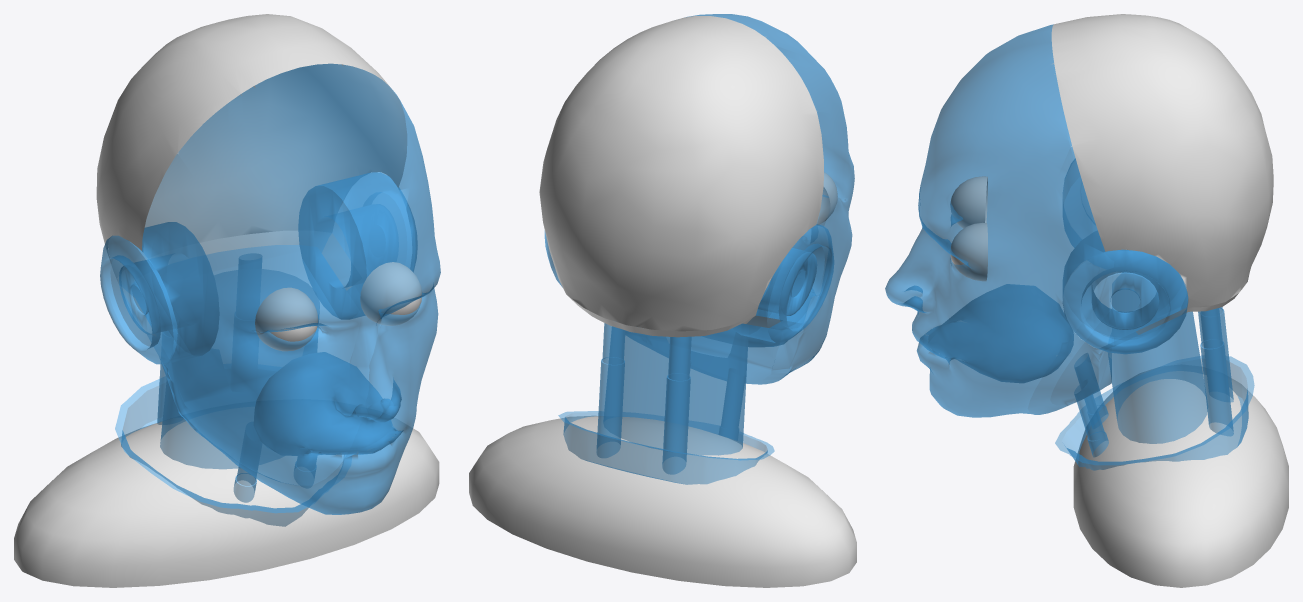
3 renders of one model, left to right at view 1: azimuth 30°, elevation 25°; view 2: azimuth 150°, elevation 25°; view 3: azimuth 270°, elevation 25°, orthographic. The views are drawn at different scales.
Parts seen in each view (by area): view 1: Component_67_1, Component_66_1, 球体, Component_64_1, Component_59_1, Component_59_2, rdmobj02_1; view 2: Component_66_1, 球体, Component_64_1, Component_67_1, Component_59_1, rdmobj02_1; view 3: Component_67_1, Component_66_1, 球体, Component_64_1, Component_59_2, rdmobj02_1, Component_59_1.
Boxes of the visible parts, <box> form: Component_67_1: <box>142,63,440,514</box>; Component_66_1: <box>96,14,407,335</box>; 球体: <box>14,407,439,587</box>; Component_64_1: <box>115,245,360,526</box>; Component_59_1: <box>100,222,219,364</box>; Component_59_2: <box>298,172,417,319</box>; rdmobj02_1: <box>255,262,422,351</box>; Component_66_1: <box>539,16,823,337</box>; 球体: <box>469,415,856,587</box>; Component_64_1: <box>558,323,779,484</box>; Component_67_1: <box>686,14,854,384</box>; Component_59_1: <box>733,224,834,343</box>; rdmobj02_1: <box>816,172,837,224</box>; Component_67_1: <box>885,24,1137,417</box>; Component_66_1: <box>1051,14,1273,334</box>; 球体: <box>1073,365,1288,587</box>; Component_64_1: <box>1050,255,1254,470</box>; Component_59_2: <box>1062,230,1188,354</box>; rdmobj02_1: <box>950,176,987,281</box>; Component_59_1: <box>1063,159,1114,269</box>.
Size of the model in its own units: 4.95 by 5.97 by 4.64.
